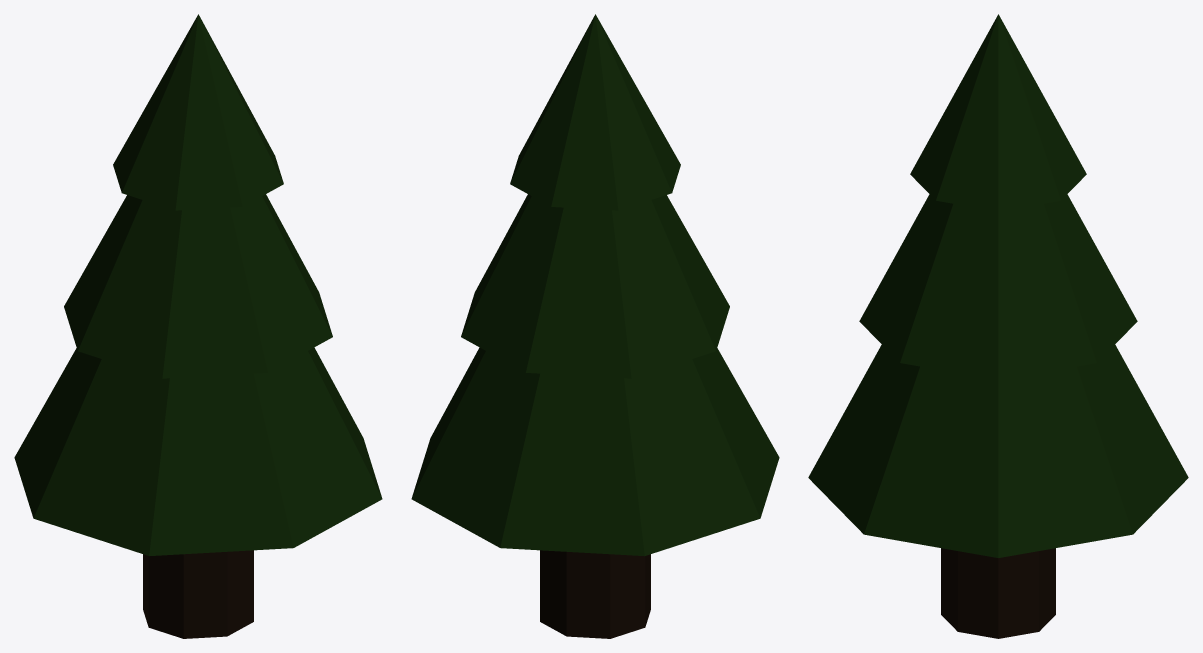
Rendered from tree2.dae.
3 views of the same model, side by side, from view 1: azimuth 30°, elevation 25°; view 2: azimuth 150°, elevation 25°; view 3: azimuth 270°, elevation 25° (orthographic).
Parts seen in each view (by area): view 1: skp6D81 (×4); view 2: skp6D81 (×4); view 3: skp6D81 (×4).
Part boxes in pixels (left/top/right/bottom): skp6D81 (×4): left=14, top=14, right=382, bottom=638; skp6D81 (×4): left=411, top=14, right=779, bottom=638; skp6D81 (×4): left=808, top=14, right=1188, bottom=638.
Size of the model in its own units: 164 by 164 by 286.
